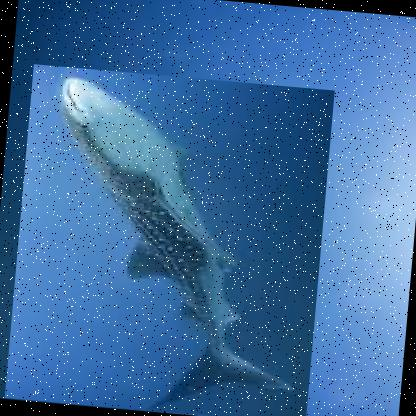blue_whale: (3, 62, 335, 415)
